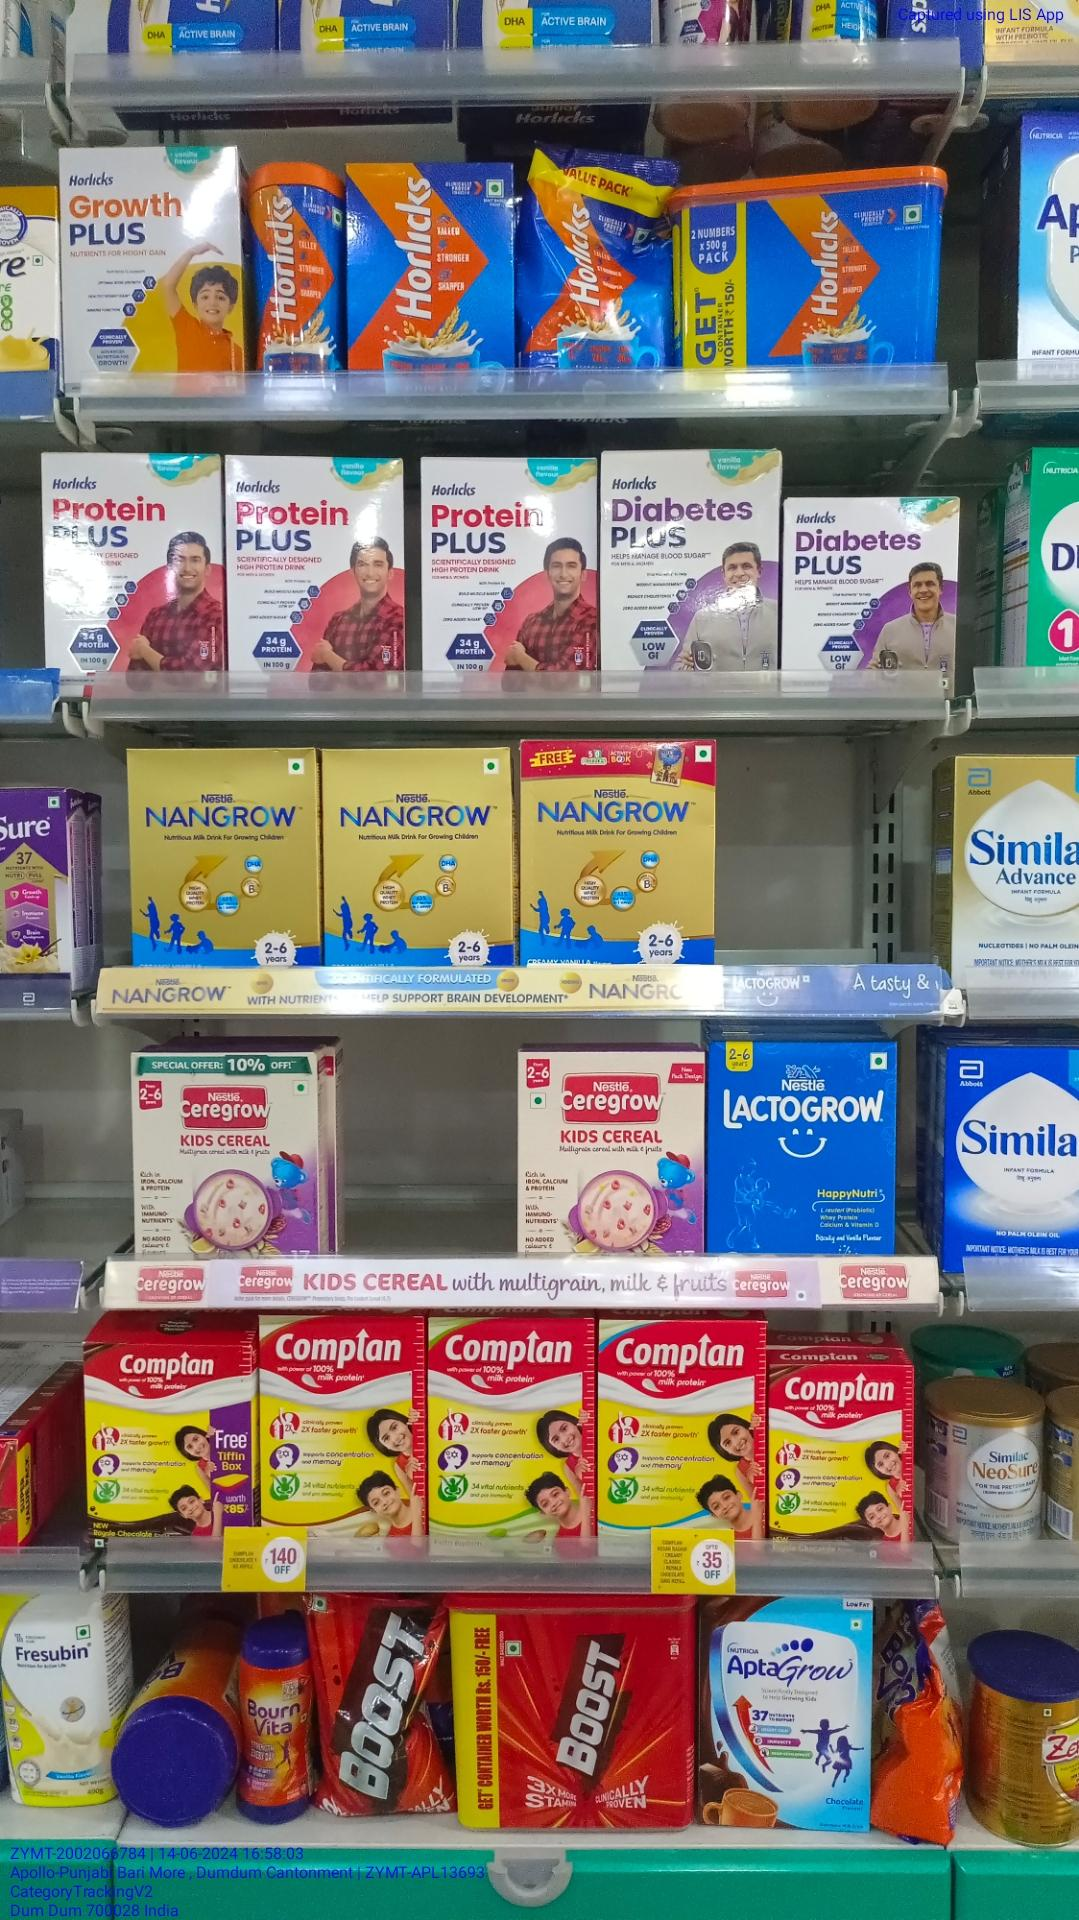BOURN_VITA_200_G_JAR: (237, 1631, 314, 1824)
COMPLAN_CHOCOLATE_200_GMS_PACK: (769, 1369, 914, 1542)
COMPLAN_CHOCOLATE_500_GMS_PACK: (83, 1338, 253, 1526)
COMPLAN_CREAMY_CLASSIC_500_G_PACK: (599, 1319, 764, 1530)
COMPLAN_KESAR_BADAM_500_GMS_PACK: (259, 1317, 425, 1532)
COMPLAN_PISTA_BADAM_500_GMS_PACK: (431, 1315, 594, 1559)
HORLICK_CLASSIC_MALT_500_G_JAR: (251, 167, 339, 400)
HORLICK_CLASSIC_MALT_500_G_PACK: (347, 164, 516, 398)
HORLICK_MALT_1_KG_CONTAINER: (677, 177, 935, 382)
